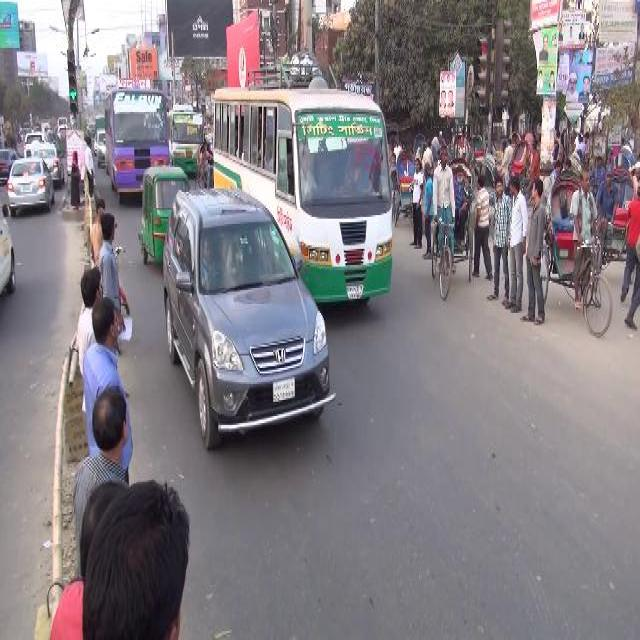13: (539, 161, 615, 340), (427, 143, 475, 301), (596, 166, 636, 276), (392, 146, 414, 226), (494, 135, 532, 181), (614, 140, 636, 170), (470, 132, 486, 164), (412, 132, 426, 156)
15: (161, 182, 335, 458)
17: (138, 159, 164, 271)
5: (4, 152, 56, 218)
Truck: (206, 64, 396, 309), (100, 84, 173, 190), (169, 97, 203, 177)
